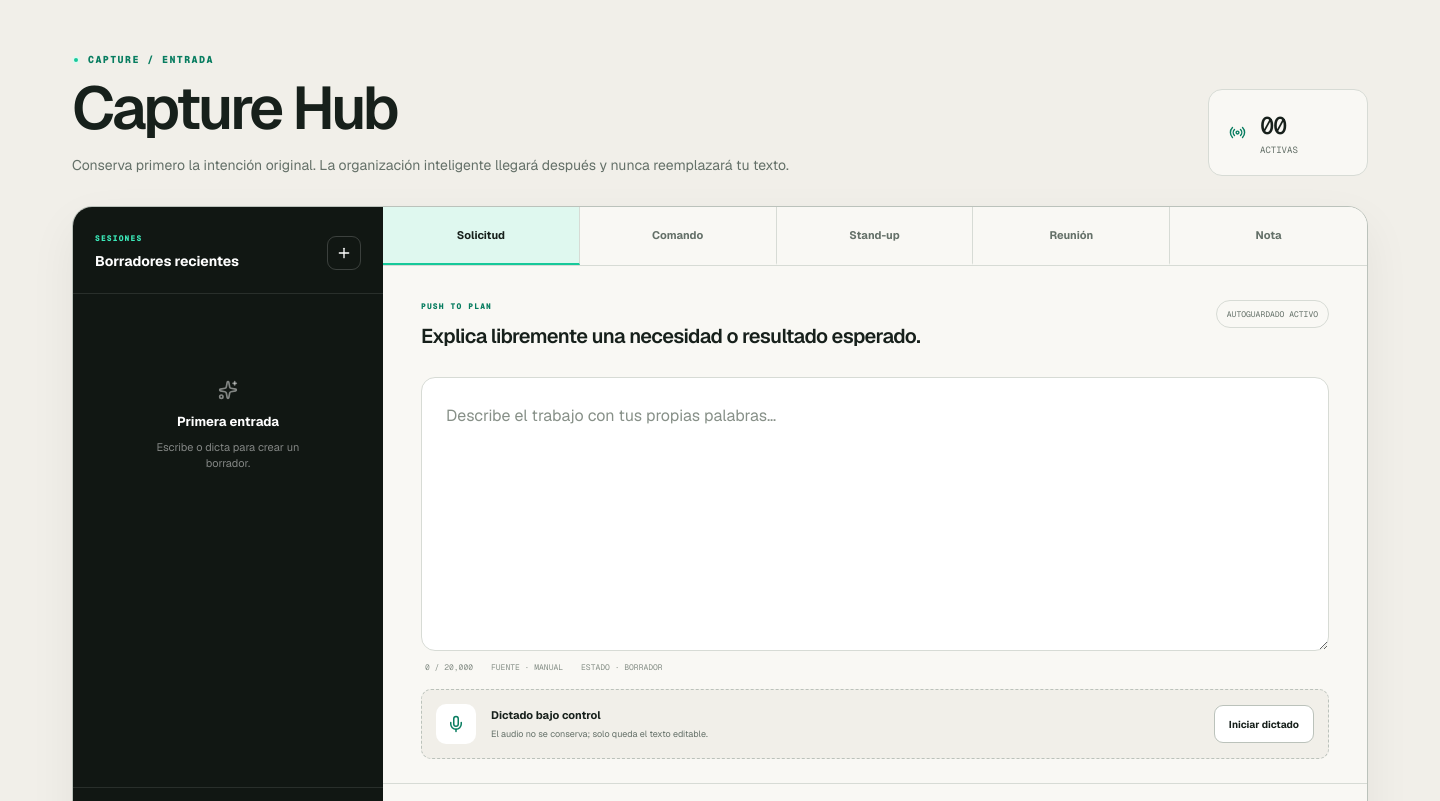
Test: CaptureHub › presenta entrada manual y consentimiento antes del micrófono
Check: the heading "Capture Hub" is shown, box [72, 69, 396, 147]
Check: the text box named "Contenido de la captura" is enabled, box [421, 377, 1329, 651]
Click the button "Iniciar dictado" at (1264, 724), box [1214, 705, 1314, 743]
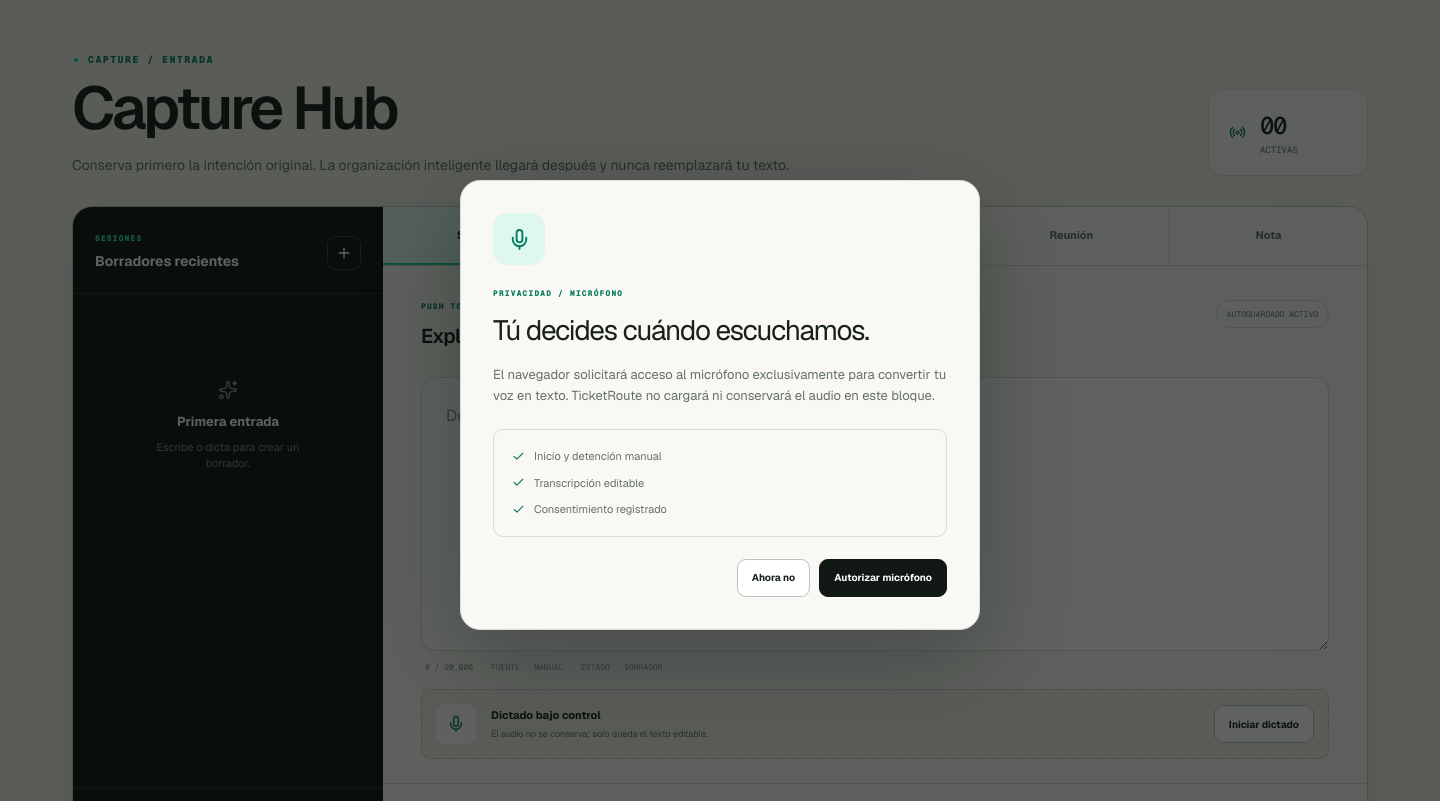
Check: the dialog "Tú decides cuándo escuchamos." is shown, box [460, 180, 980, 630]
Check: the list item "Consentimiento registrado" is shown, box [512, 502, 667, 516]
